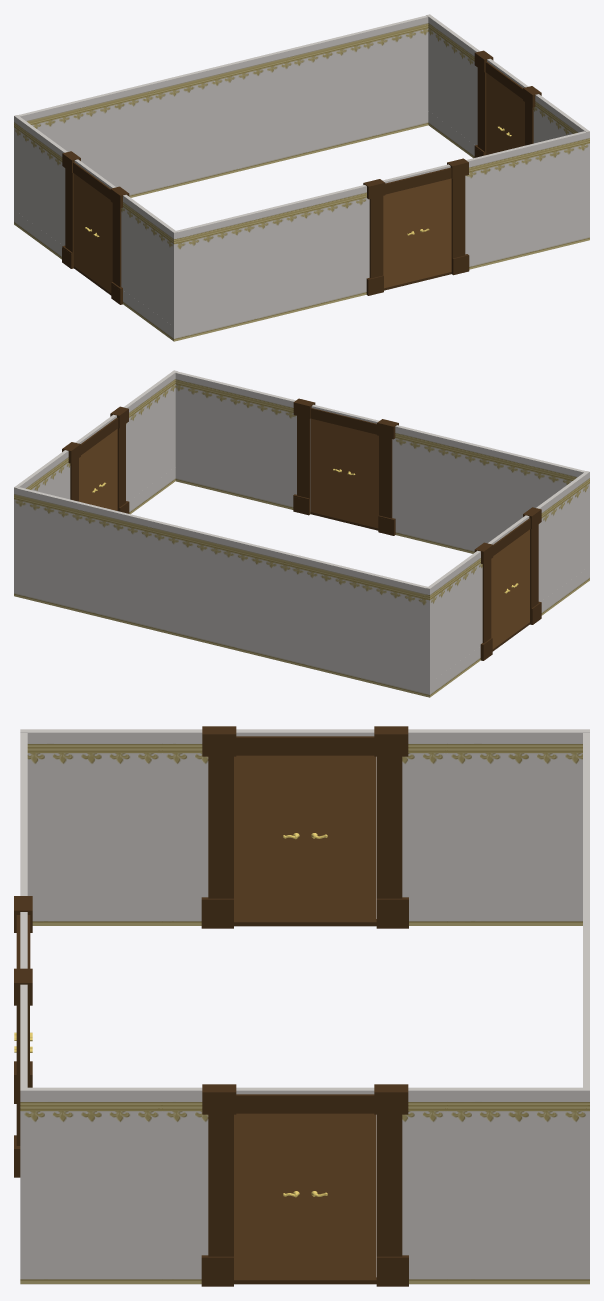
Rendered from Geo_Room6x4_3Doors_01.fbx.
3 views of the same model, one above another, from view 1: azimuth 30°, elevation 25°; view 2: azimuth 150°, elevation 25°; view 3: azimuth 270°, elevation 25° (orthographic). The views are drawn at different scales.
Visible parts, largest first — view 1: geo_wallTopx6_01 (×2), geo_wallTopx4_01 (×2), geo_wallCulledx6_01 (×2), geo_door_02 (×3), geo_door_01 (×3), geo_doorFrameSide_05 (×3), geo_wallCulledx4_01 (×2), geo_doorFrameSide_01 (×2), geo_doorFrameTop_01 (×3); view 2: geo_wallTopx6_01 (×2), geo_wallTopx4_01 (×2), geo_wallCulledx6_01 (×2), geo_door_01 (×3), geo_door_02 (×3), geo_doorFrameSide_01 (×3), geo_wallCulledx4_01 (×2), geo_doorFrameSide_05 (×2), geo_doorFrameTop_01 (×3); view 3: geo_wallTopx4_01 (×2), geo_door_02 (×2), geo_door_01 (×2), geo_wallCulledx4_01 (×2), geo_doorFrameSide_05 (×3), geo_doorFrameSide_01 (×2), geo_doorFrameTop_01 (×2), geo_wallTopx6_01 (×2), geo_doorFrameSide_07 (×2), geo_doorFrameSide_03 (×2), geo_doorFrameSide_04 (×2), geo_doorFrameSide_08 (×2) (+1 smaller).
Part boxes in pixels (bbox=[...]): geo_wallTopx6_01 (×2): bbox=[18, 15, 589, 326]; geo_wallTopx4_01 (×2): bbox=[14, 14, 589, 326]; geo_wallCulledx6_01 (×2): bbox=[116, 111, 589, 340]; geo_door_02 (×3): bbox=[74, 73, 506, 280]; geo_door_01 (×3): bbox=[94, 87, 524, 292]; geo_doorFrameSide_05 (×3): bbox=[65, 68, 486, 258]; geo_wallCulledx4_01 (×2): bbox=[14, 111, 474, 341]; geo_doorFrameSide_01 (×2): bbox=[112, 196, 383, 286]; geo_doorFrameTop_01 (×3): bbox=[73, 61, 522, 199]; geo_wallTopx6_01 (×2): bbox=[14, 371, 585, 682]; geo_wallTopx4_01 (×2): bbox=[14, 370, 589, 682]; geo_wallCulledx6_01 (×2): bbox=[14, 467, 486, 696]; geo_door_01 (×3): bbox=[97, 427, 529, 636]; geo_door_02 (×3): bbox=[79, 418, 509, 648]; geo_doorFrameSide_01 (×3): bbox=[117, 424, 538, 608]; geo_wallCulledx4_01 (×2): bbox=[128, 467, 589, 697]; geo_doorFrameSide_05 (×2): bbox=[297, 416, 491, 642]; geo_doorFrameTop_01 (×3): bbox=[81, 408, 530, 555]; geo_wallTopx4_01 (×2): bbox=[20, 729, 589, 1258]; geo_door_02 (×2): bbox=[305, 755, 376, 1279]; geo_door_01 (×2): bbox=[234, 755, 305, 1279]; geo_wallCulledx4_01 (×2): bbox=[20, 900, 589, 1284]; geo_doorFrameSide_05 (×3): bbox=[16, 756, 402, 1256]; geo_doorFrameSide_01 (×2): bbox=[208, 756, 233, 1256]; geo_doorFrameTop_01 (×2): bbox=[236, 736, 374, 1113]; geo_wallTopx6_01 (×2): bbox=[20, 733, 589, 1087]; geo_doorFrameSide_07 (×2): bbox=[374, 726, 408, 1114]; geo_doorFrameSide_03 (×2): bbox=[202, 726, 236, 1114]; geo_doorFrameSide_04 (×2): bbox=[201, 902, 233, 1286]; geo_doorFrameSide_08 (×2): bbox=[376, 902, 408, 1286].
Bounding box in the file's own units: 608 × 151 × 405.
5 materials, 1 textured.
